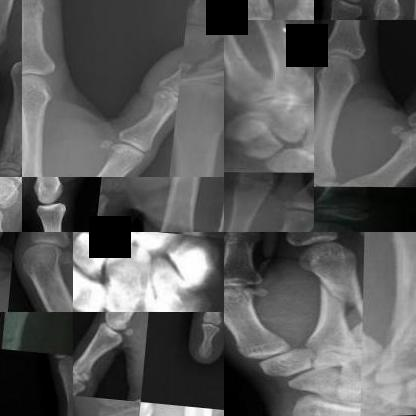fracture: (373, 245, 415, 343), (301, 268, 364, 329), (185, 65, 223, 105), (6, 313, 35, 345), (303, 36, 313, 86), (332, 0, 375, 9)
